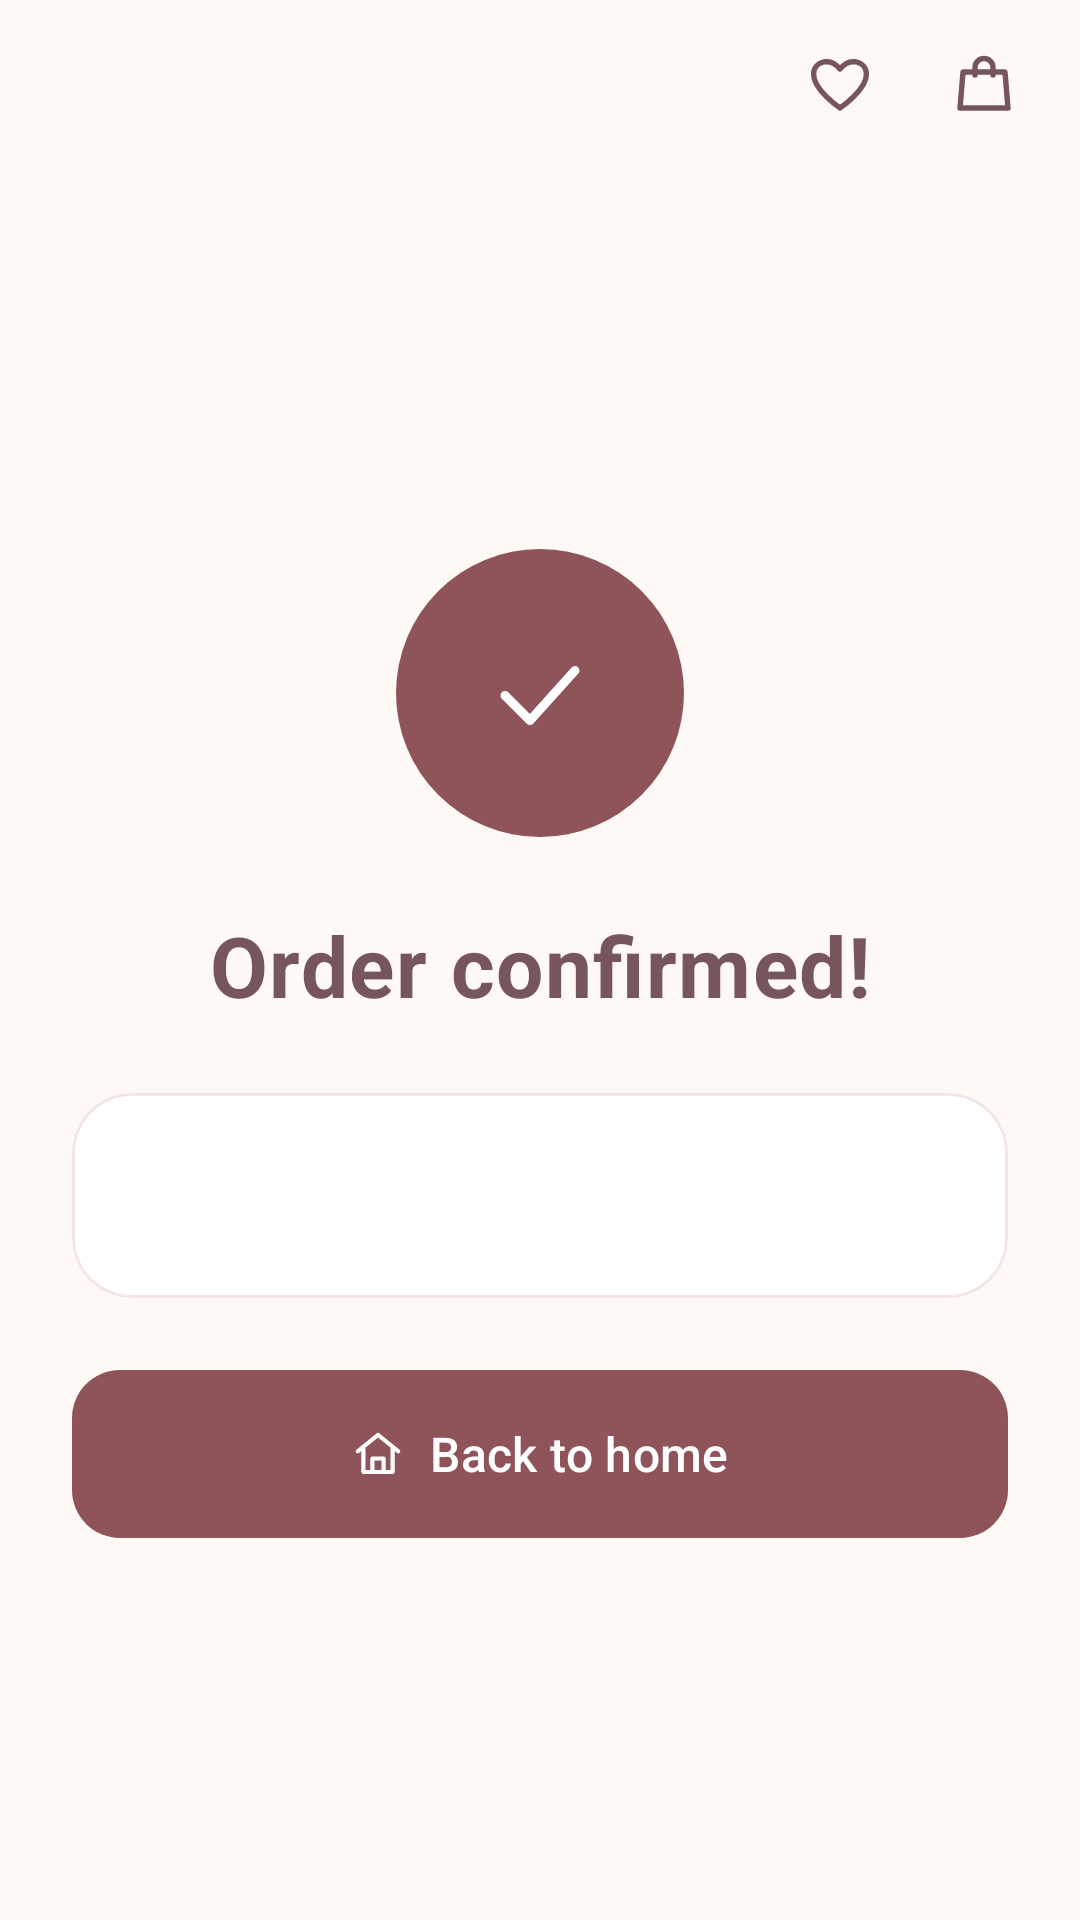

Named icons in this screenshot (1080w x 1920h) and their bounding boxes, (x1, y1, x2, y2):
check: (396, 549, 684, 837)
Mes favoris: (811, 59, 869, 111)
Mon panier: (957, 55, 1011, 111)
